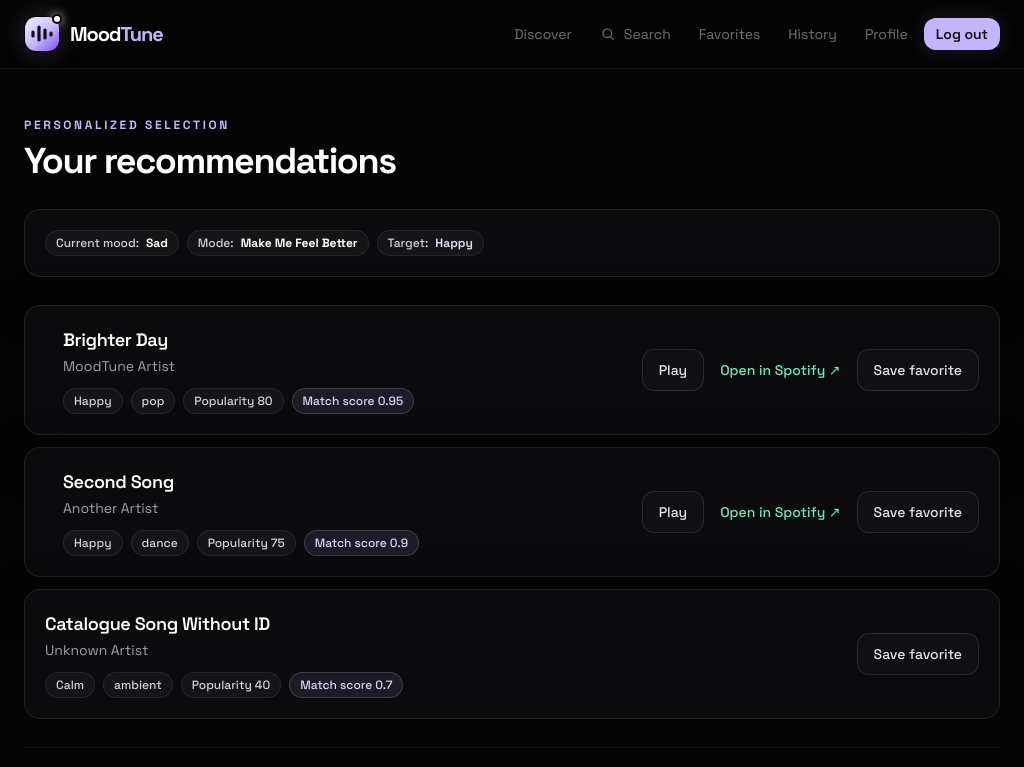
Test case: existing favorite behavior still saves the selected track
This screenshot has width=1024, height=767.
Check: the heading "Brighter Day" is shown, box [63, 328, 168, 351]
Click the button "Save favorite" in the row of "MoodTune Artist". click: point(918, 370)
box: [857, 349, 979, 391]
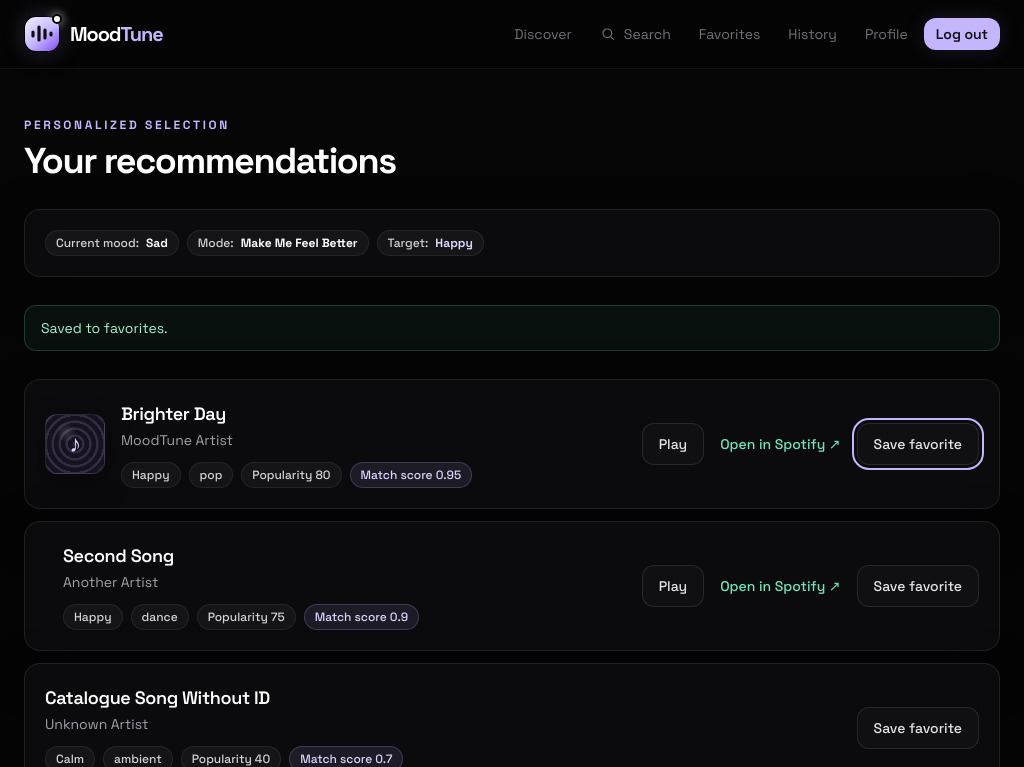
Check: the text "Saved to favorites." is shown, box [24, 305, 1000, 351]
